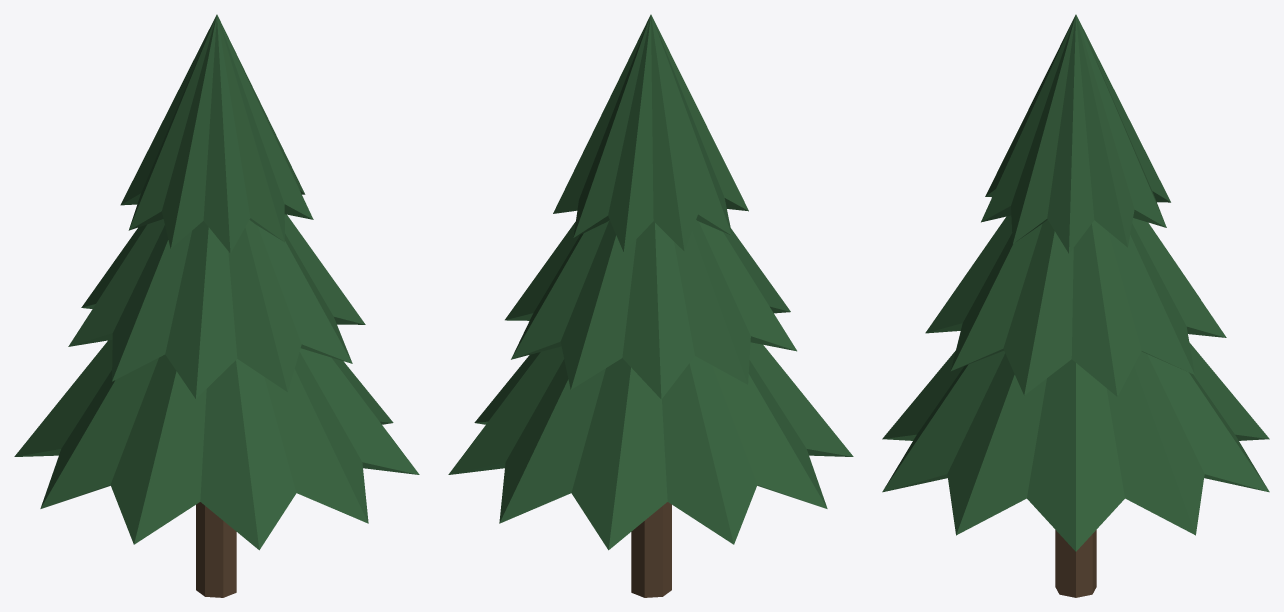
The model's file is tree.glb.
3 renders of one model, left to right at view 1: azimuth 30°, elevation 25°; view 2: azimuth 150°, elevation 25°; view 3: azimuth 270°, elevation 25°, orthographic.
Visible parts, largest first — view 1: Tree; view 2: Tree; view 3: Tree.
Part boxes in pixels (x1,y1,x2,y2): Tree: [14, 14, 419, 597]; Tree: [448, 14, 853, 597]; Tree: [882, 14, 1269, 597].
Bounding box in the file's own units: 2.7 × 4.2 × 2.57.
